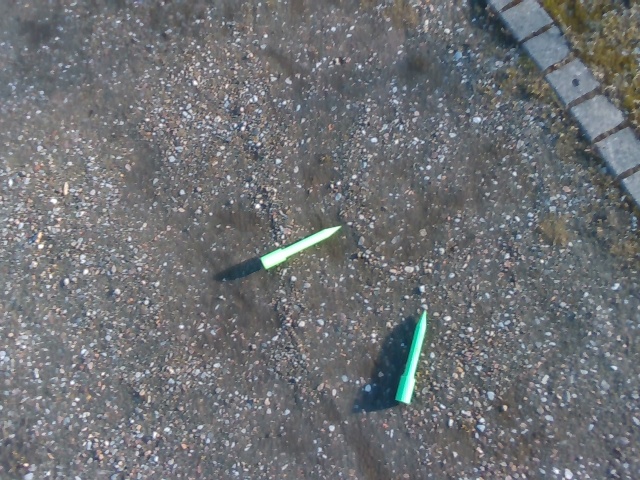Probe: (258, 220, 350, 273), (392, 308, 432, 409)
